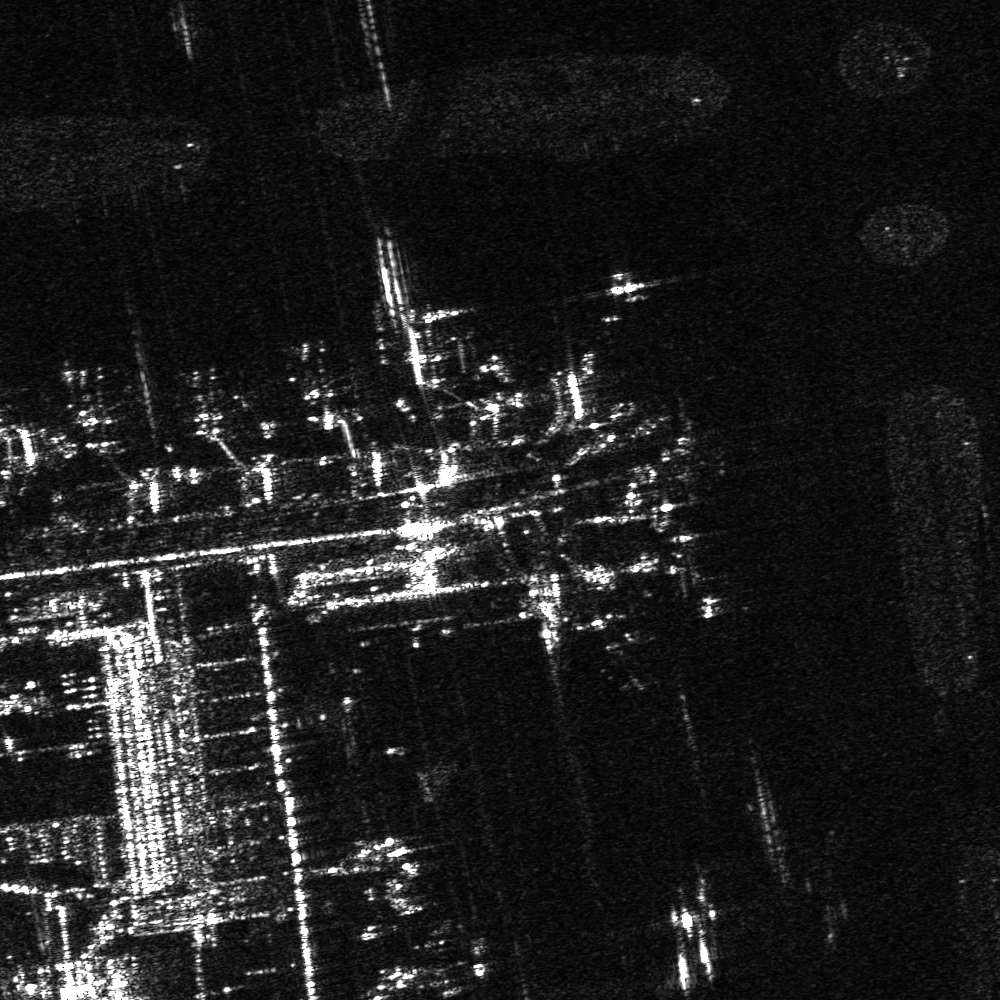A220: (168, 361, 249, 438), (278, 336, 349, 409), (55, 365, 124, 437)
